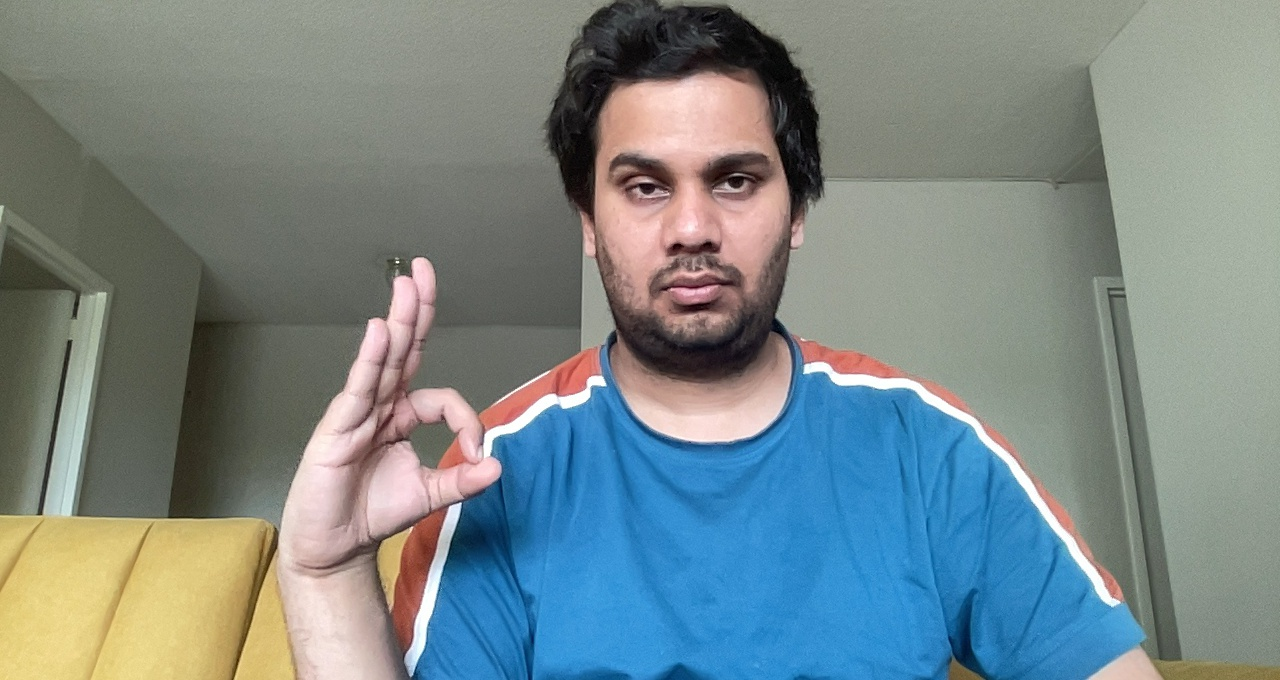ok: (263, 249, 515, 591)
